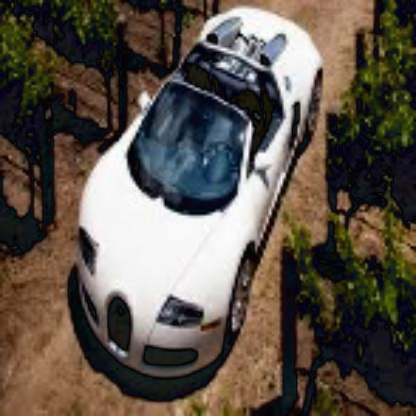Vehicle: (80, 9, 327, 382)
